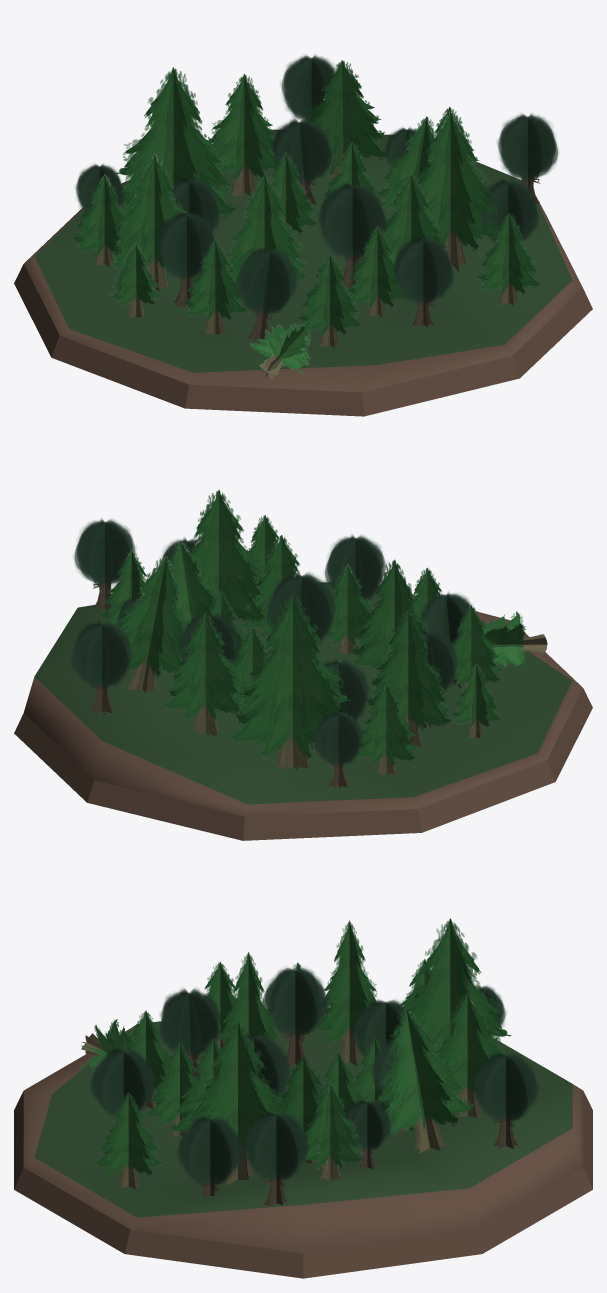
Rendered from flatforest.glb.
3 renders of one model, top to bottom at view 1: azimuth 30°, elevation 25°; view 2: azimuth 150°, elevation 25°; view 3: azimuth 270°, elevation 25°, orthographic. The views are drawn at different scales.
Visible parts, largest first — view 1: pCylinder2, pPlane17, pPlane33, pPlane30, pPlane16, pPlane12, pPlane34, pPlane22, pPlane15, pPlane20, pPlane35, pPlane26 (+17 smaller); view 2: pCylinder2, pPlane17, pPlane16, pPlane33, pPlane12, pPlane30, pPlane22, pPlane10, pPlane35, pPlane19, pPlane34, pPlane20 (+16 smaller); view 3: pCylinder2, pPlane16, pPlane17, pPlane33, pPlane12, pPlane10, pPlane35, pPlane26, pPlane30, pPlane13, pPlane15, pPlane21 (+16 smaller).
Boxes of the visible parts, x1,y1,x2,y2 form: pCylinder2: [14, 129, 592, 416]; pPlane17: [116, 67, 236, 219]; pPlane33: [408, 111, 499, 272]; pPlane30: [209, 73, 277, 198]; pPlane16: [306, 60, 387, 178]; pPlane12: [111, 153, 187, 291]; pPlane34: [318, 182, 386, 289]; pPlane22: [226, 173, 307, 313]; pPlane15: [235, 247, 297, 342]; pPlane20: [393, 236, 453, 327]; pPlane35: [497, 113, 558, 203]; pPlane26: [156, 211, 214, 309]; pCylinder2: [14, 582, 592, 840]; pPlane17: [230, 594, 356, 771]; pPlane16: [114, 556, 190, 692]; pPlane33: [188, 490, 267, 624]; pPlane12: [366, 610, 451, 747]; pPlane30: [164, 613, 245, 737]; pPlane22: [352, 559, 428, 673]; pPlane10: [71, 620, 132, 714]; pPlane35: [74, 518, 135, 609]; pPlane19: [356, 683, 418, 775]; pPlane34: [266, 572, 336, 645]; pPlane20: [324, 534, 385, 599]; pCylinder2: [14, 1008, 592, 1278]; pPlane16: [376, 1008, 474, 1153]; pPlane17: [390, 918, 512, 1096]; pPlane33: [179, 1021, 284, 1185]; pPlane12: [316, 920, 377, 1066]; pPlane10: [473, 1053, 538, 1149]; pPlane35: [243, 1112, 309, 1207]; pPlane26: [263, 967, 328, 1066]; pPlane30: [433, 992, 503, 1117]; pPlane13: [177, 1117, 242, 1197]; pPlane15: [159, 988, 221, 1079]; pPlane21: [94, 1092, 163, 1189].
Bounding box in the file's own units: 74.16 × 28.46 × 69.52.
Materials: 4 (2 with a texture image).
